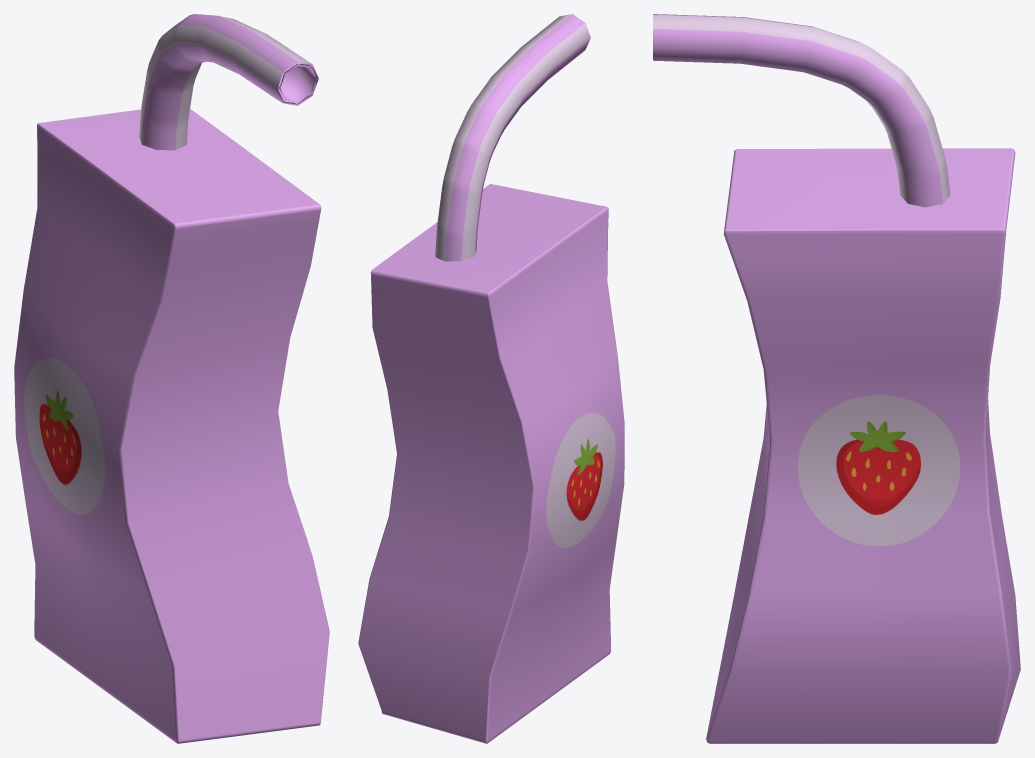
File: sut.fbx
3 renders of one model, left to right at view 1: azimuth 30°, elevation 25°; view 2: azimuth 150°, elevation 25°; view 3: azimuth 270°, elevation 25°, orthographic. The views are drawn at different scales.
Visible parts, largest first — view 1: Cube; view 2: Cube; view 3: Cube.
Boxes of the visible parts, x1,y1,x2,y2 form: Cube: (14, 14, 329, 743); Cube: (358, 14, 624, 743); Cube: (653, 14, 1020, 743).
Bounding box in the file's own units: 31.78 × 106 × 50.3.
1 material, 1 textured.
